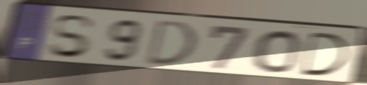7: (207, 23, 251, 71)
9: (102, 18, 145, 64)
D: (143, 19, 200, 67), (299, 30, 351, 78)
O: (251, 29, 303, 75)
S: (45, 14, 99, 60)
